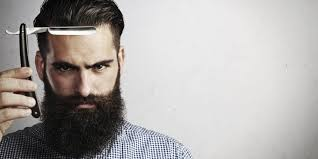b.y: (48, 95, 113, 153)
